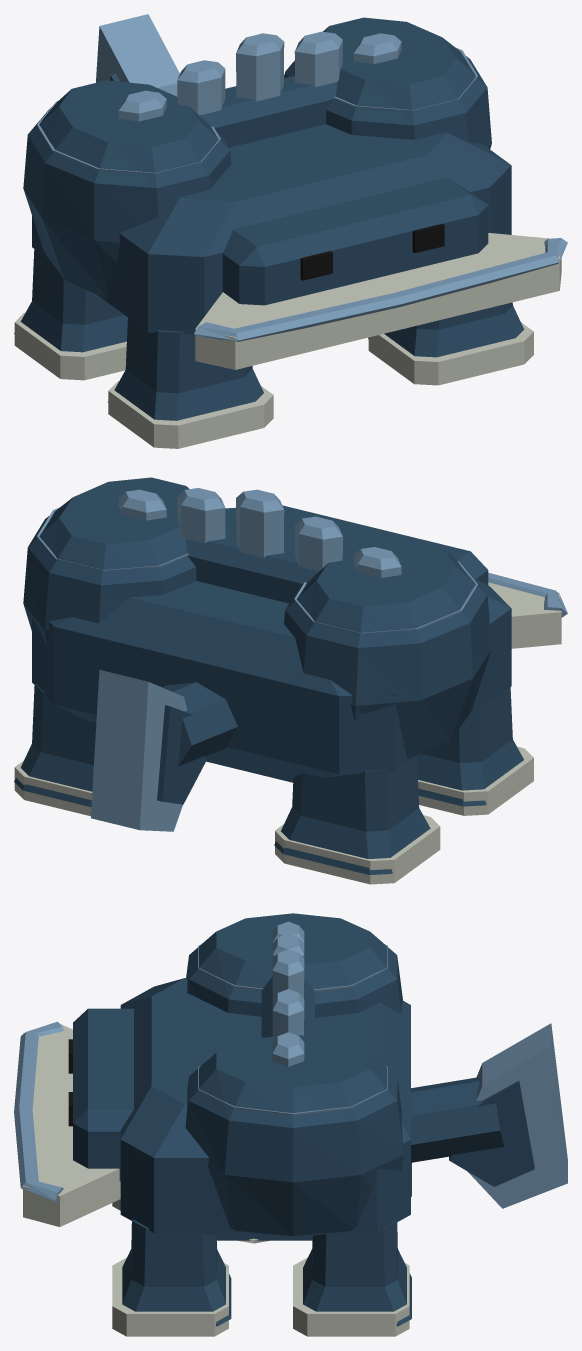
Rendered from vesselorn.glb.
The picture shows the model from 3 angles, top to bottom: view 1: azimuth 30°, elevation 25°; view 2: azimuth 150°, elevation 25°; view 3: azimuth 270°, elevation 25°; orthographic projection. The views are drawn at different scales.
Visible parts, largest first — view 1: Vesselorn; view 2: Vesselorn; view 3: Vesselorn.
Boxes of the visible parts, bbox=[...] form: Vesselorn: bbox=[14, 14, 567, 448]; Vesselorn: bbox=[14, 477, 567, 884]; Vesselorn: bbox=[14, 913, 567, 1336].
Size of the model in its own units: 1.95 by 1.3 by 2.25.
